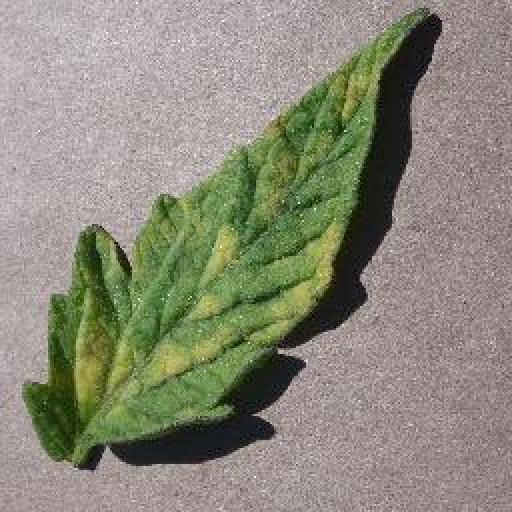disease_tomato: (24, 6, 428, 470)
